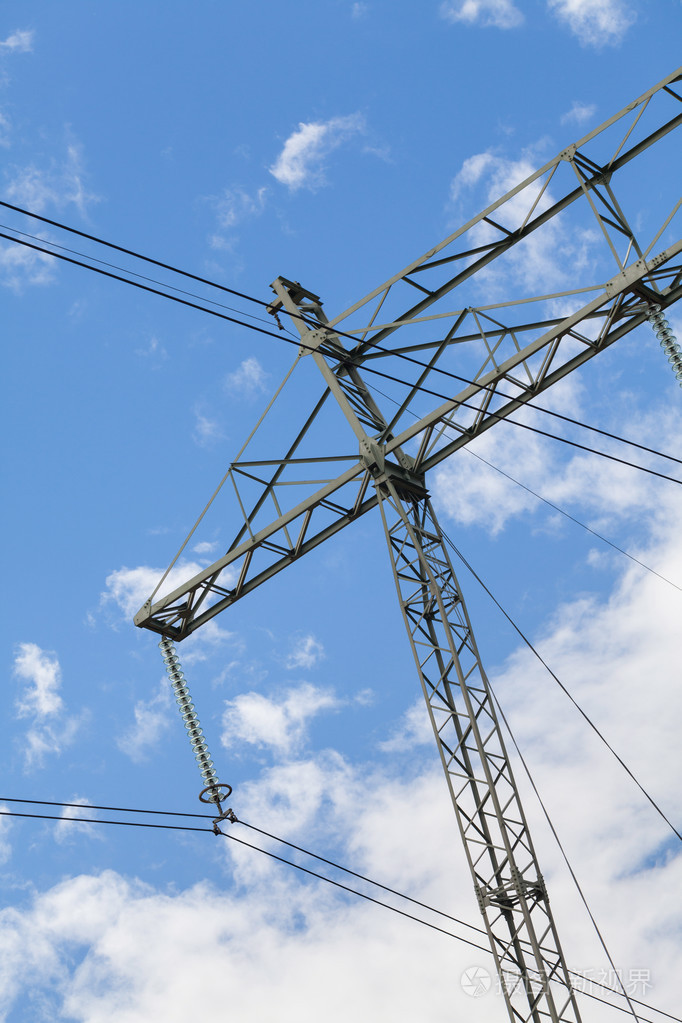insulator: (156, 639, 222, 799), (644, 305, 682, 368)
